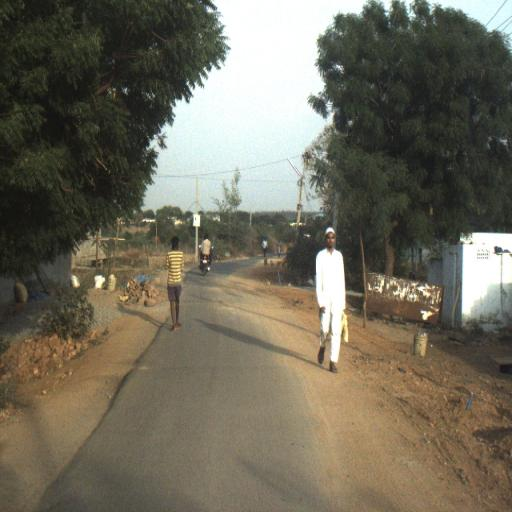street_light_0: (287, 155, 304, 189)
